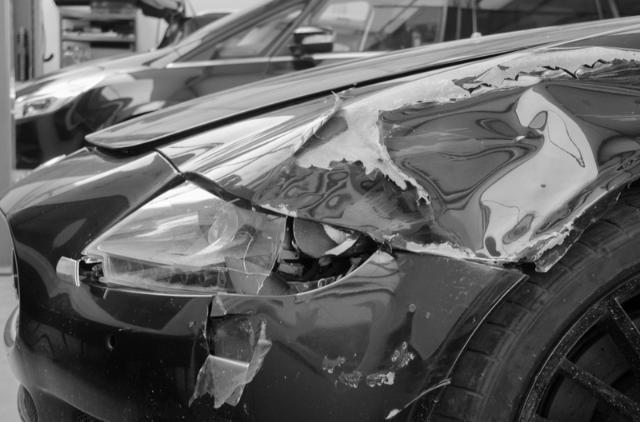Bumper: (133, 290, 435, 422)
Fender: (231, 70, 640, 231)
Light: (126, 196, 339, 288)
